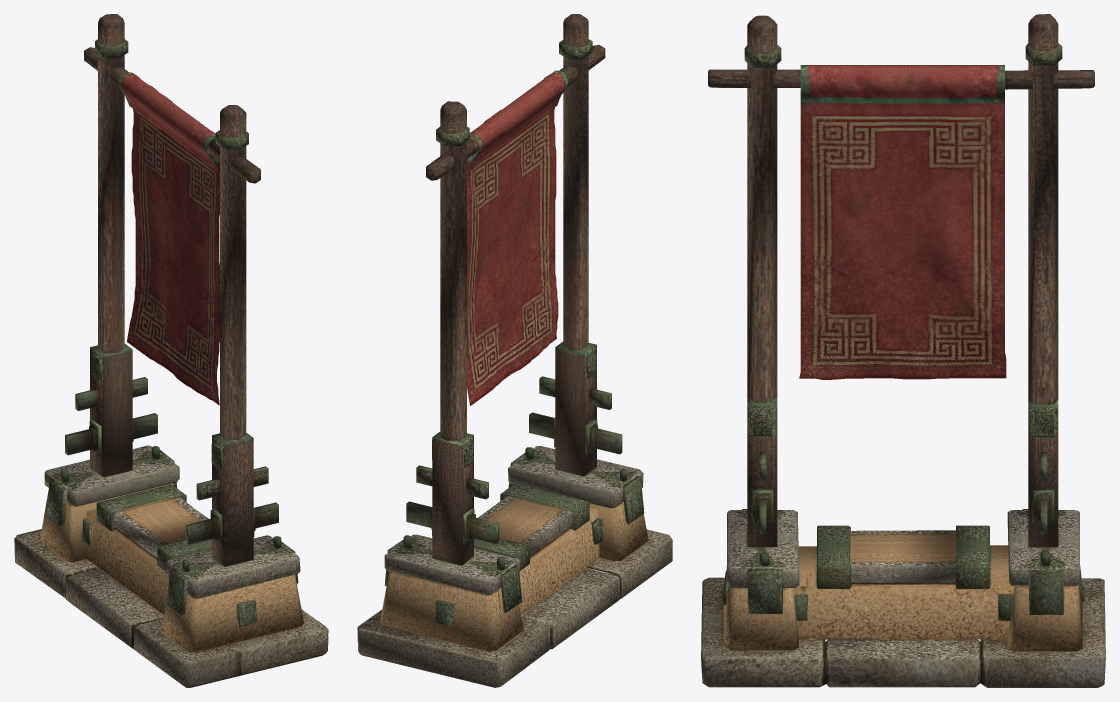
Rendered from tripo_convert_6aae2ee7-2e5a-4250-8a64-96d8baa205e1.fbx.
3 renders of one model, left to right at view 1: azimuth 30°, elevation 25°; view 2: azimuth 150°, elevation 25°; view 3: azimuth 270°, elevation 25°, orthographic. The views are drawn at different scales.
Parts seen in each view (by area): view 1: tripo_node_6aae2ee7; view 2: tripo_node_6aae2ee7; view 3: tripo_node_6aae2ee7.
Boxes of the visible parts, x1,y1,x2,y2 form: tripo_node_6aae2ee7: [14, 14, 328, 687]; tripo_node_6aae2ee7: [357, 14, 672, 687]; tripo_node_6aae2ee7: [701, 14, 1105, 687].
Size of the model in its own units: 0.2754 by 0.998 by 0.5801.
Materials: 1 (1 with a texture image).
